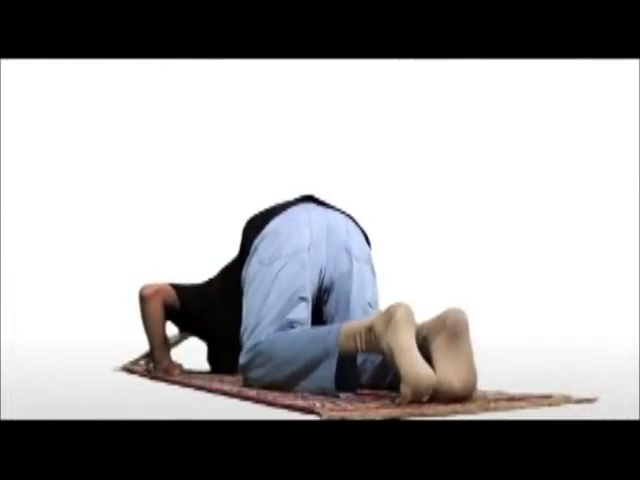sujud: (137, 193, 477, 410)
